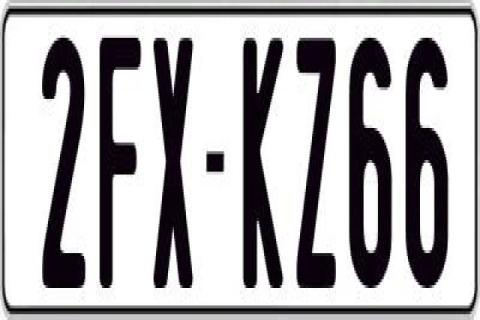0: (39, 29, 83, 285), (346, 32, 390, 282), (402, 38, 446, 288)
F: (100, 32, 146, 296)
K: (240, 29, 280, 282)
X: (152, 29, 198, 279)
Z: (293, 32, 335, 296)
